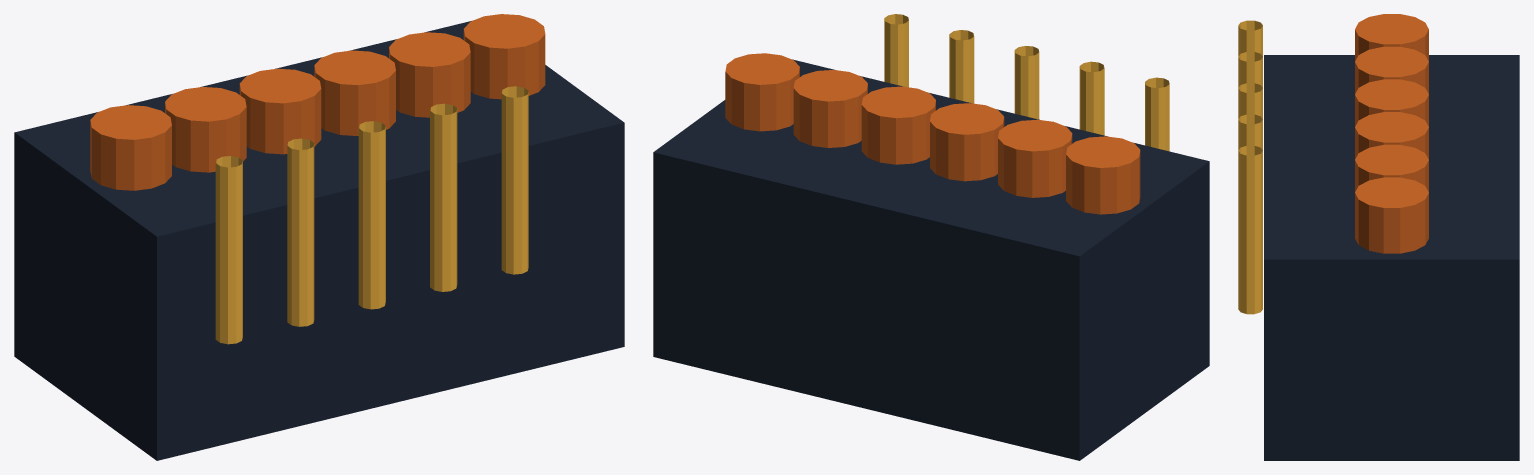
The model's file is 23_L85_ReactionControlPropellantManifold.fbx.
3 renders of one model, left to right at view 1: azimuth 30°, elevation 25°; view 2: azimuth 150°, elevation 25°; view 3: azimuth 270°, elevation 25°, orthographic. The views are drawn at different scales.
Visible parts, largest first — view 1: L85_ReactionControlPropellantManifold; view 2: L85_ReactionControlPropellantManifold; view 3: L85_ReactionControlPropellantManifold.
Part boxes in pixels (x1,y1,x2,y2): L85_ReactionControlPropellantManifold: (14,14,624,460); L85_ReactionControlPropellantManifold: (653,14,1209,460); L85_ReactionControlPropellantManifold: (1238,14,1519,460).
Bounding box in the file's own units: 144 × 85 × 83.7.
